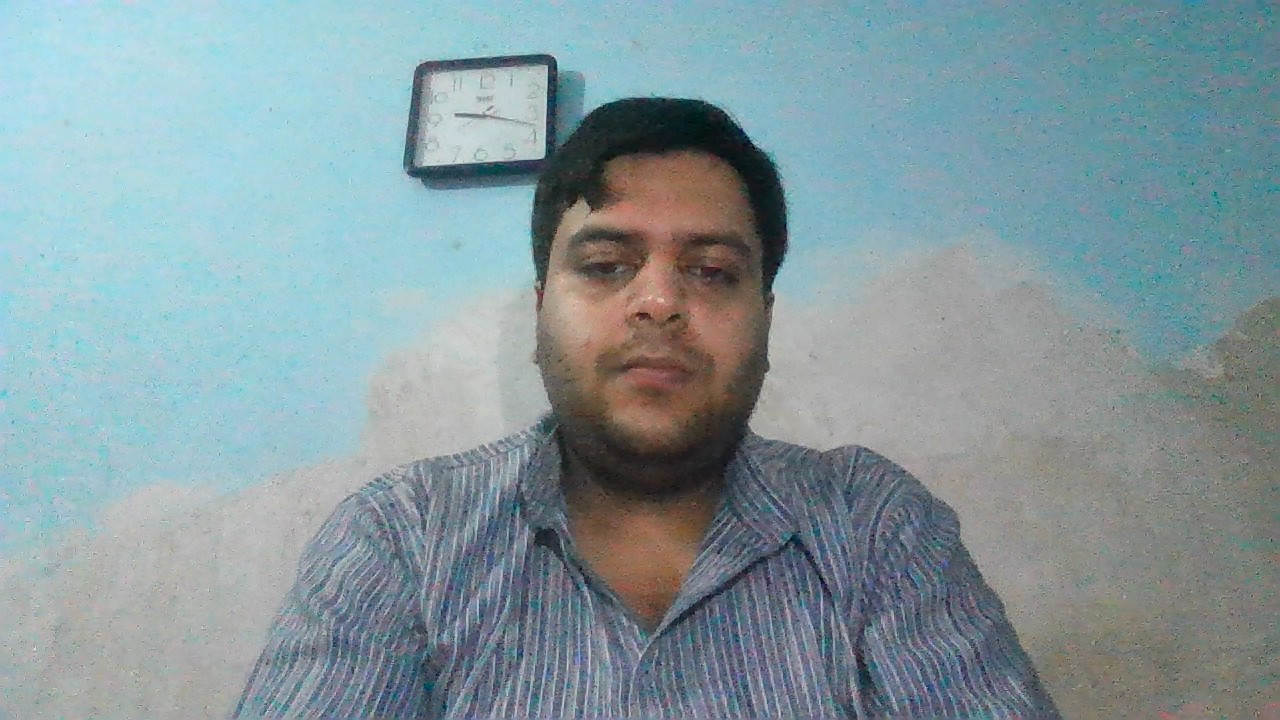No Mask: (530, 285, 773, 459)
